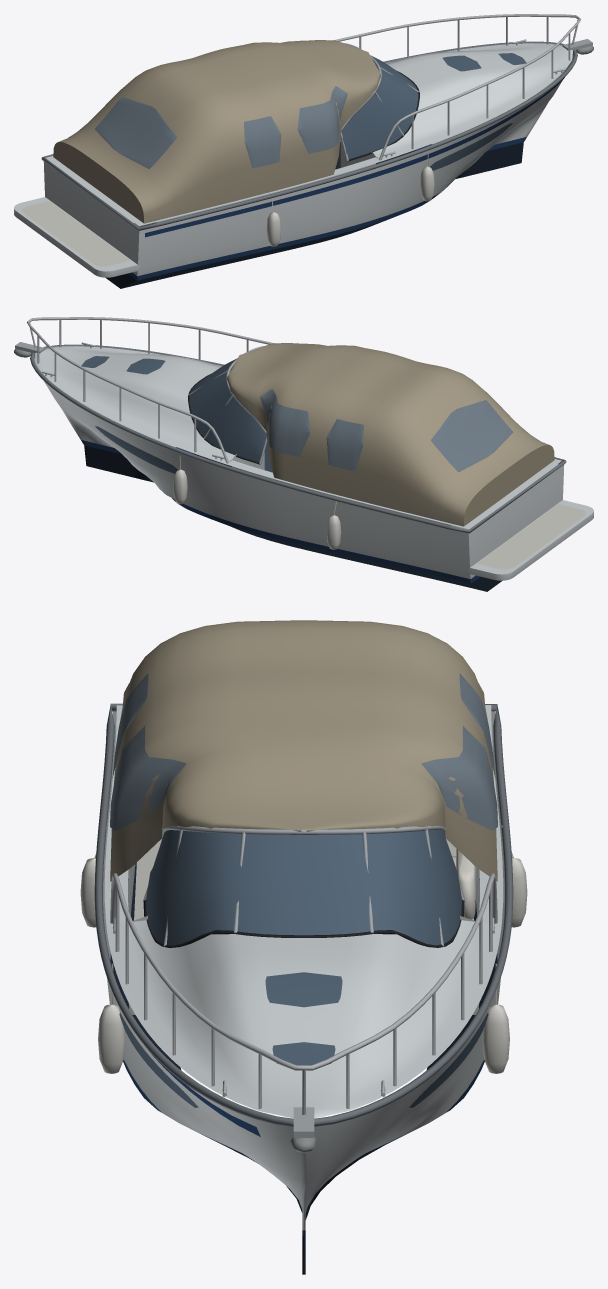
Rendered from cabin-cruiser-observed.glb.
3 views of the same model, one above another, from view 1: azimuth 30°, elevation 25°; view 2: azimuth 150°, elevation 25°; view 3: azimuth 270°, elevation 25° (orthographic). The views are drawn at different scales.
Visible parts, largest first — view 1: cruiser-lod0; view 2: cruiser-lod0; view 3: cruiser-lod0.
Part boxes in pixels (x1,y1,x2,y2): cruiser-lod0: [14, 14, 593, 288]; cruiser-lod0: [14, 317, 593, 591]; cruiser-lod0: [80, 620, 527, 1274].
Size of what is drawn, in the model's own units: 9.04 by 2.6 by 3.25.
